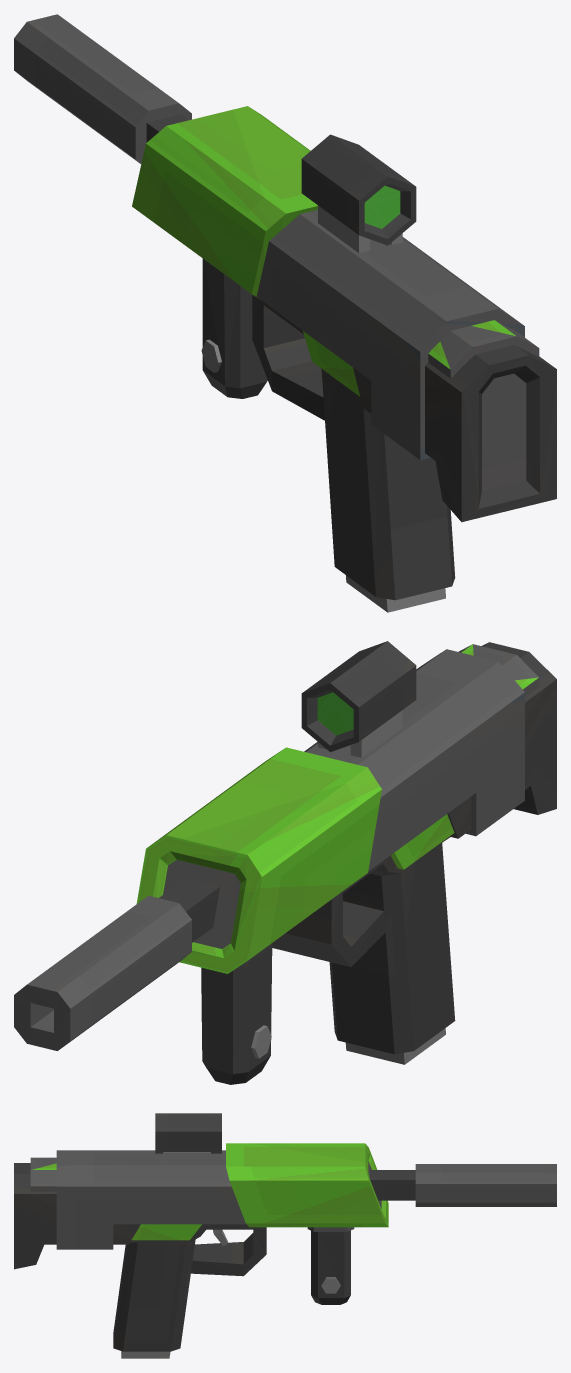
Rendered from smg_6.glb.
The picture shows the model from 3 angles, top to bottom: view 1: azimuth 30°, elevation 25°; view 2: azimuth 150°, elevation 25°; view 3: azimuth 270°, elevation 25°; orthographic projection. The views are drawn at different scales.
Visible parts, largest first — view 1: subfusil_6_texture_0; view 2: subfusil_6_texture_0; view 3: subfusil_6_texture_0.
Boxes of the visible parts, left/top/right/bottom form: subfusil_6_texture_0: left=14, top=14, right=556, bottom=612; subfusil_6_texture_0: left=14, top=641, right=556, bottom=1084; subfusil_6_texture_0: left=14, top=1113, right=556, bottom=1358.
Bounding box in the file's own units: 0.0787 × 0.2639 × 0.548.
Materials: 1 (1 with a texture image).
